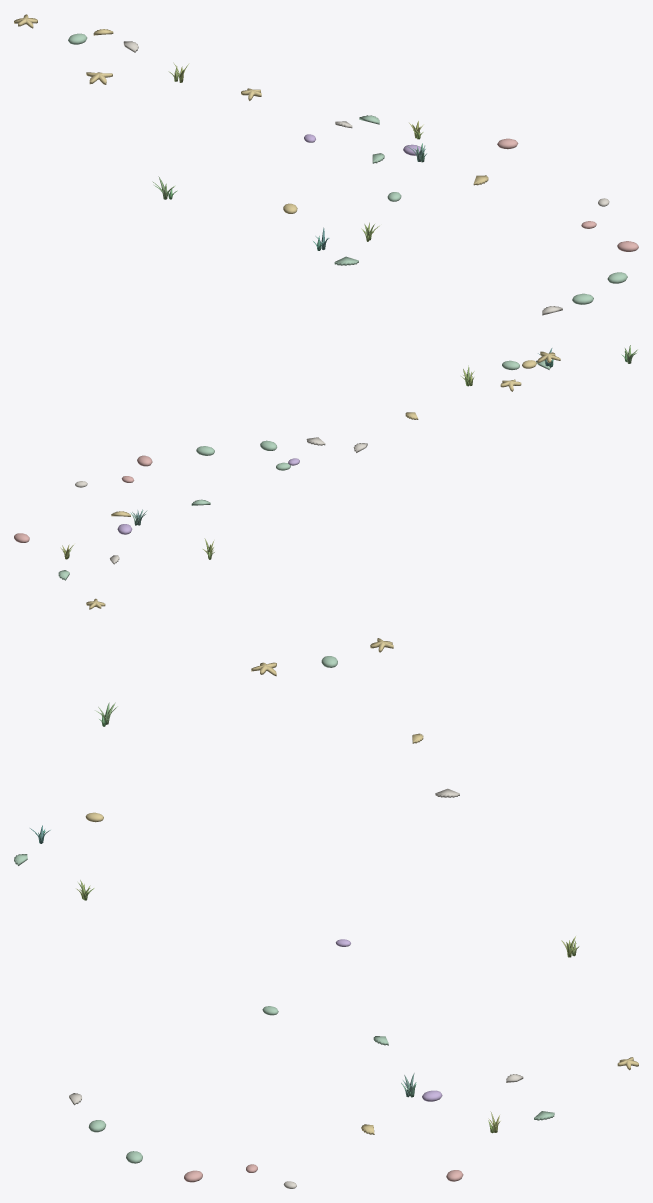
The model's file is W2_FloraRing_11_9.fbx.
3 views of the same model, one above another, from view 1: azimuth 30°, elevation 25°; view 2: azimuth 150°, elevation 25°; view 3: azimuth 270°, elevation 25° (orthographic). The views are drawn at different scales.
Visible parts, largest first — view 1: W2_FloraRing_11_9; view 2: W2_FloraRing_11_9; view 3: W2_FloraRing_11_9.
Part boxes in pixels (x1,y1,x2,y2): W2_FloraRing_11_9: [14, 14, 638, 315]; W2_FloraRing_11_9: [14, 345, 637, 609]; W2_FloraRing_11_9: [14, 638, 638, 1188].
Bounding box in the file's own units: 3.8 × 1.91 × 3.74.
